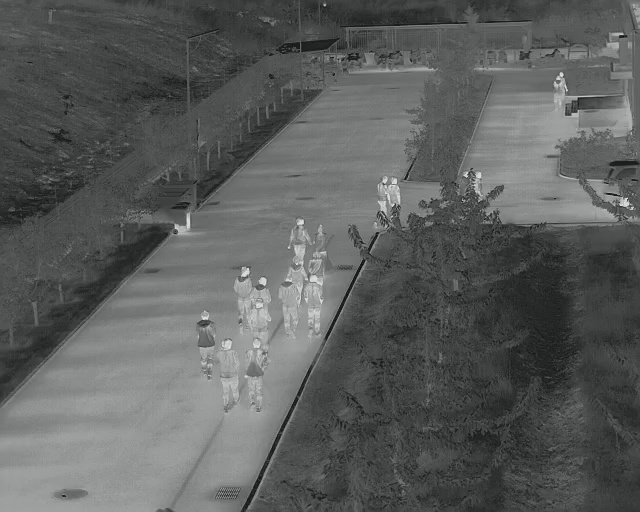person: (246, 338, 267, 414), (218, 338, 239, 414), (195, 312, 214, 380), (280, 275, 298, 339), (304, 274, 322, 337), (235, 266, 250, 332), (251, 300, 269, 346), (289, 216, 306, 258), (555, 68, 567, 112), (388, 175, 402, 208), (377, 174, 388, 214), (313, 223, 328, 252), (473, 169, 485, 197), (309, 252, 323, 273)
